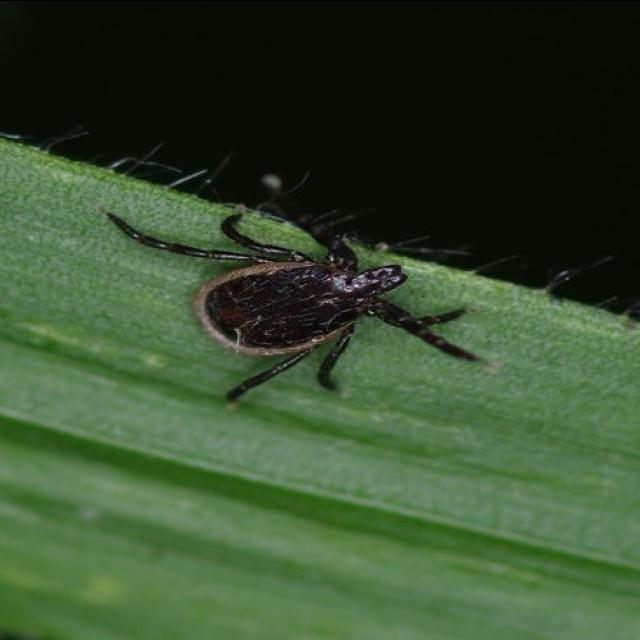Ixodes Ricinus-M: (108, 211, 487, 407)
